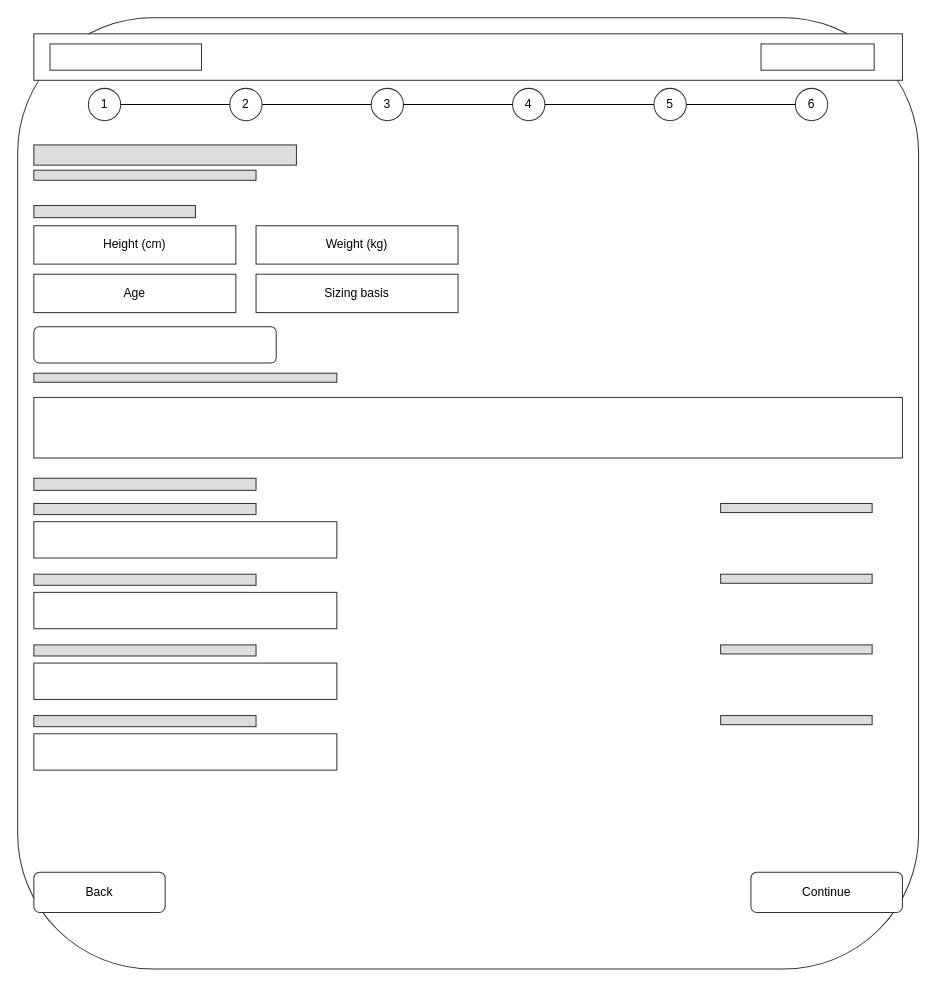
Image size: 936x987. Some labels were removed from this diagram. Here are the shapes that lost their labels. From the top down, the centre of each, then its label:
(x=125, y=56): THREADCRAFT · Design Wizard
(x=817, y=56): Save & exit
(x=154, y=344): ✦ Estimate my measurements
(x=467, y=427): Off the rack you'd be about a Size M
